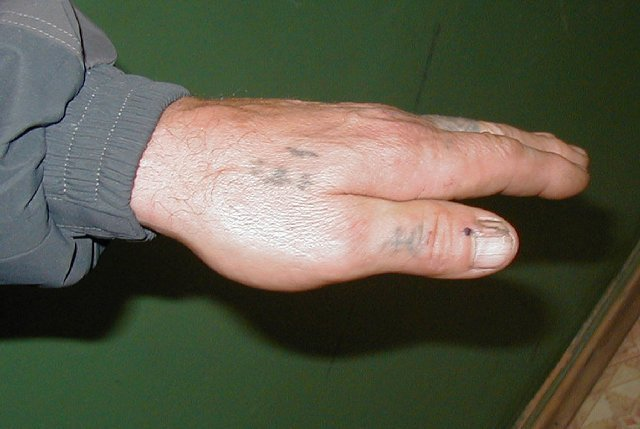tatu9_krest: (376, 226, 421, 258)
